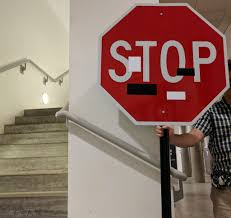stop sign: (98, 4, 229, 123)
